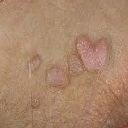Wart: (69, 35, 109, 72), (46, 68, 70, 89)
